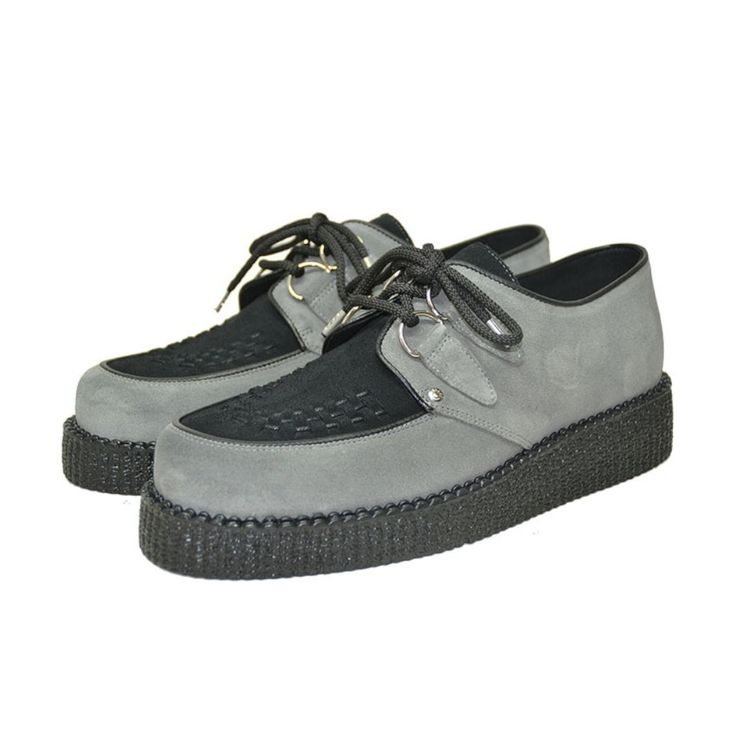gamuza: (73, 218, 665, 523)
